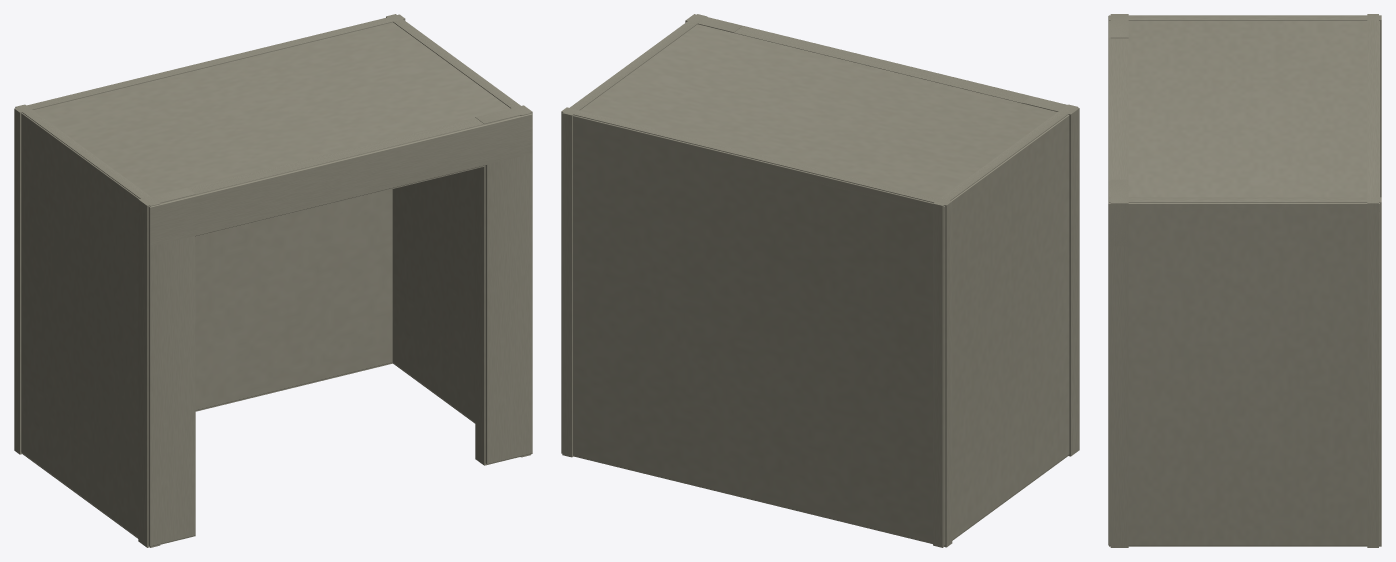
The model's file is elevator-shaft-shell.glb.
3 views of the same model, side by side, from view 1: azimuth 30°, elevation 25°; view 2: azimuth 150°, elevation 25°; view 3: azimuth 270°, elevation 25° (orthographic).
Parts seen in each view (by area): view 1: Shaft_Ceiling, Shaft_Side_-5.28, Shaft_BackWall, Shaft_Side_5.28, Shaft_FrontHeader, Shaft_FrontPier_-1, Shaft_FrontPier_1, Shaft_BackClosure, Shaft_FrontPierClosure_-1, Shaft_FrontPierClosure_1, Shaft_FrontHeaderClosure, Shaft_SideClosure_-5.28 (+1 smaller); view 2: Shaft_BackWall, Shaft_Ceiling, Shaft_Side_-5.28, Shaft_BackClosure, Shaft_SideClosure_-5.28, Shaft_SideClosure_5.28, Shaft_FrontPierClosure_-1, Shaft_FrontHeaderClosure; view 3: Shaft_Side_5.28, Shaft_Ceiling, Shaft_FrontPierClosure_1, Shaft_BackClosure, Shaft_FrontHeaderClosure, Shaft_SideClosure_5.28, Shaft_SideClosure_-5.28, Shaft_FrontPier_1, Shaft_FrontHeader, Shaft_FrontPierClosure_-1.
Boxes of the visible parts, x1,y1,x2,y2 form: Shaft_Ceiling: (21, 22, 510, 206); Shaft_Side_-5.28: (21, 114, 138, 537); Shaft_BackWall: (195, 33, 392, 410); Shaft_Side_5.28: (392, 169, 475, 422); Shaft_FrontHeader: (149, 114, 532, 246); Shaft_FrontPier_-1: (148, 196, 195, 546); Shaft_FrontPier_1: (485, 113, 532, 464); Shaft_BackClosure: (14, 14, 405, 454); Shaft_FrontPierClosure_-1: (138, 187, 195, 547); Shaft_FrontPierClosure_1: (475, 105, 532, 465); Shaft_FrontHeaderClosure: (147, 112, 532, 248); Shaft_SideClosure_-5.28: (15, 104, 160, 547); Shaft_BackWall: (573, 116, 944, 545); Shaft_Ceiling: (573, 24, 1069, 214); Shaft_Side_-5.28: (943, 116, 1069, 545); Shaft_BackClosure: (561, 107, 952, 547); Shaft_SideClosure_-5.28: (933, 104, 1077, 547); Shaft_SideClosure_5.28: (562, 14, 707, 457); Shaft_FrontPierClosure_-1: (1022, 96, 1079, 456); Shaft_FrontHeaderClosure: (685, 21, 1070, 157); Shaft_Side_5.28: (1128, 203, 1379, 545); Shaft_Ceiling: (1128, 20, 1379, 211); Shaft_FrontPierClosure_1: (1110, 179, 1128, 547); Shaft_BackClosure: (1367, 14, 1378, 547); Shaft_FrontHeaderClosure: (1110, 38, 1128, 246); Shaft_SideClosure_5.28: (1109, 197, 1381, 546); Shaft_SideClosure_-5.28: (1109, 15, 1381, 197); Shaft_FrontPier_1: (1108, 181, 1110, 545); Shaft_FrontHeader: (1108, 35, 1110, 242); Shaft_FrontPierClosure_-1: (1110, 14, 1128, 38).
Bounding box in the file's own units: 10.98 × 9.31 × 6.7.
Materials: 3 (2 with a texture image).
